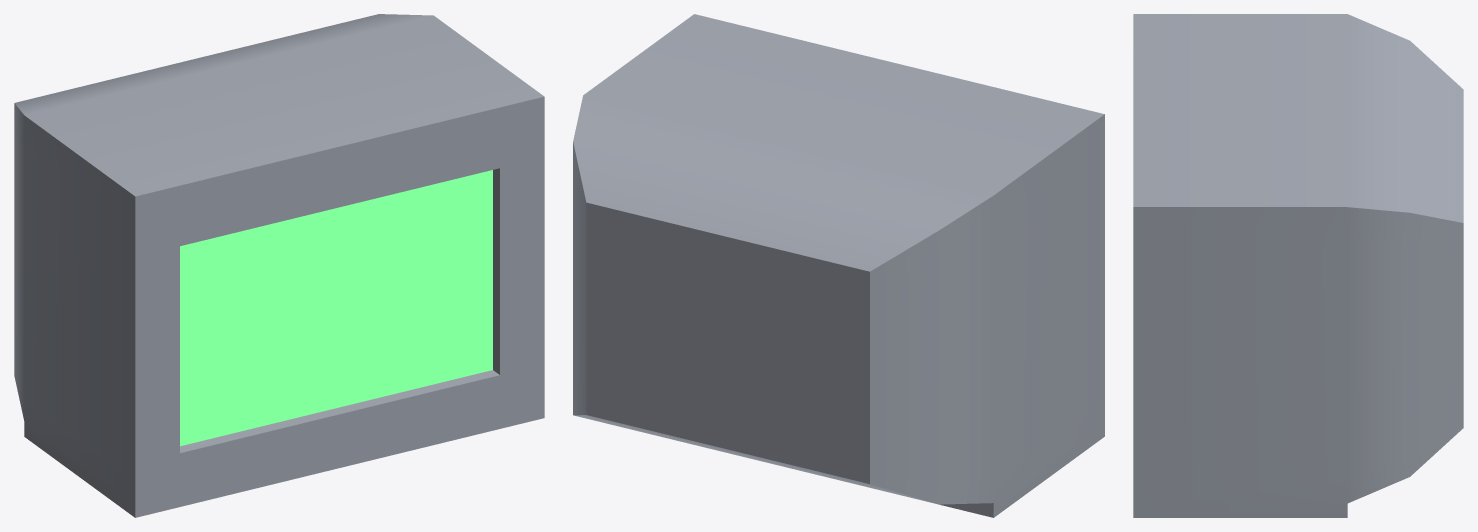
File: display02.fbx
3 views of the same model, side by side, from view 1: azimuth 30°, elevation 25°; view 2: azimuth 150°, elevation 25°; view 3: azimuth 270°, elevation 25° (orthographic). The views are drawn at different scales.
Parts seen in each view (by area): view 1: body; view 2: body; view 3: body.
Boxes of the visible parts, x1,y1,x2,y2 form: body: (14, 14, 544, 517); body: (573, 14, 1104, 517); body: (1133, 14, 1463, 517).
Bounding box in the file's own units: 10.86 × 8.15 × 7.85.
1 material, 1 textured.
